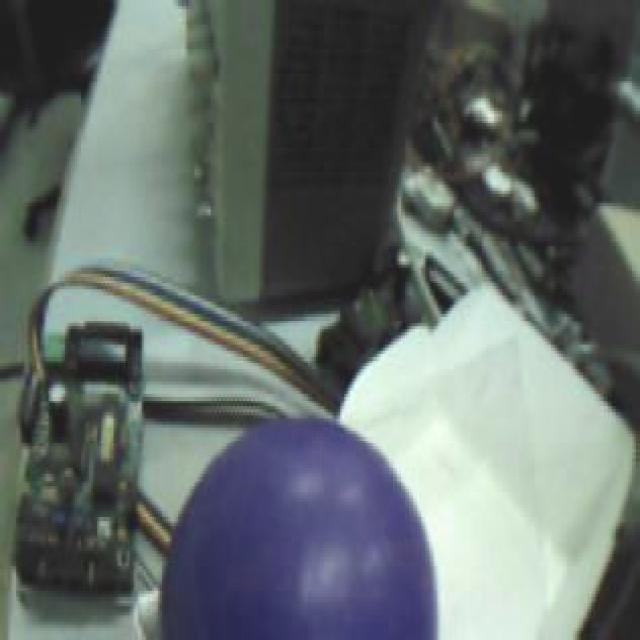BallPurple: (158, 421, 440, 640)
